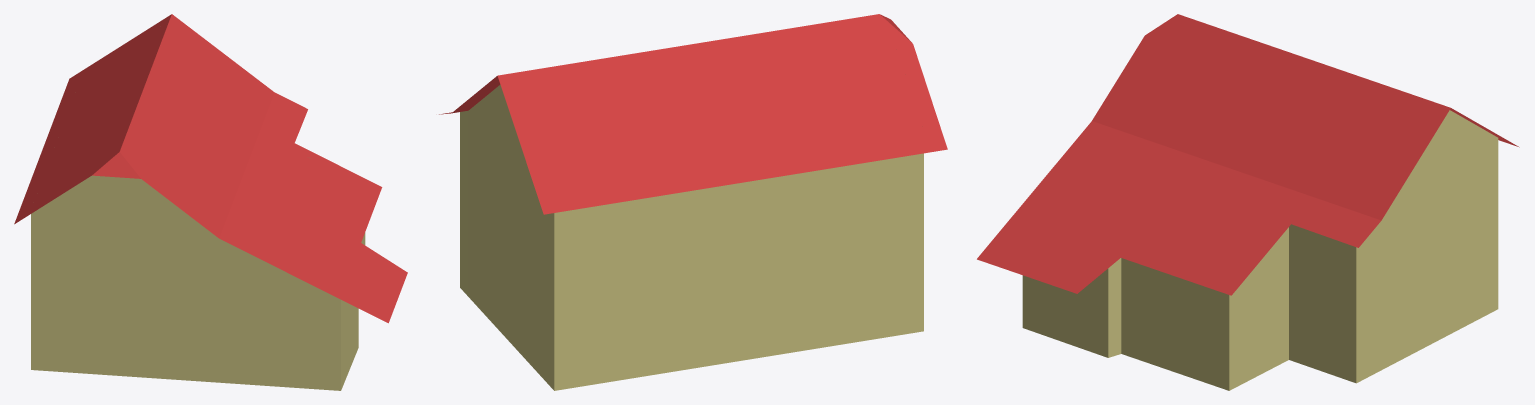
3 views of the same model, side by side, from view 1: azimuth 30°, elevation 25°; view 2: azimuth 150°, elevation 25°; view 3: azimuth 270°, elevation 25° (orthographic). The views are drawn at different scales.
Bounding box in the file's own units: 21.45 × 25.75 × 12.36.
